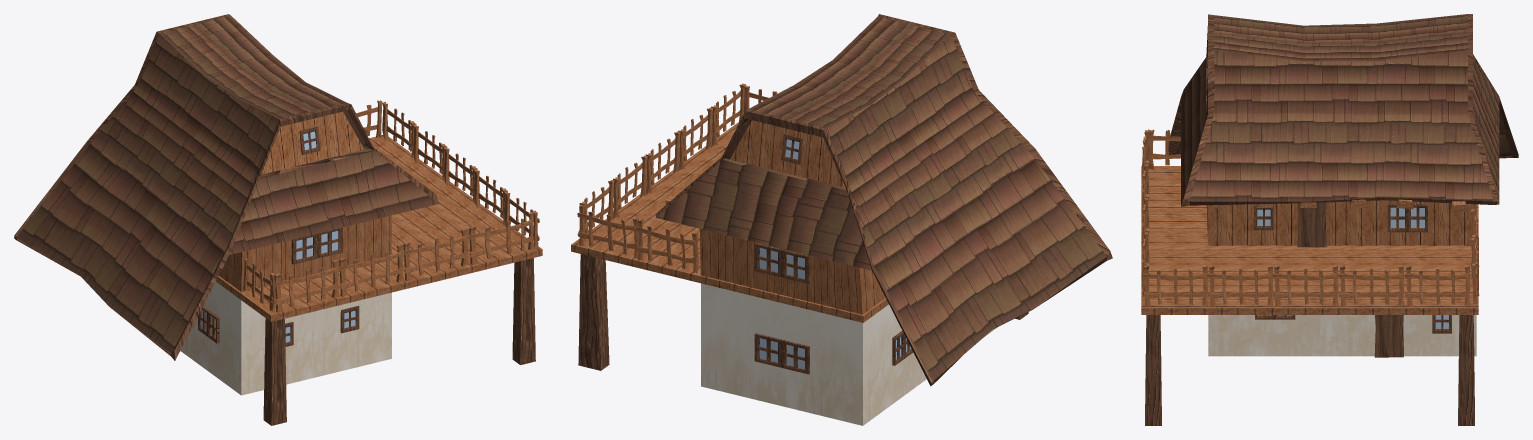
Rendered from dom2.fbx.
3 renders of one model, left to right at view 1: azimuth 30°, elevation 25°; view 2: azimuth 150°, elevation 25°; view 3: azimuth 270°, elevation 25°, orthographic. The views are drawn at different scales.
Parts seen in each view (by area): view 1: dom_velky; view 2: dom_velky; view 3: dom_velky.
Part boxes in pixels (x1,y1,x2,y2): dom_velky: [14, 14, 542, 425]; dom_velky: [571, 14, 1112, 425]; dom_velky: [1141, 14, 1518, 425].
Size of the model in its own units: 1462 by 1070 by 1248.
Materials: 35 (22 with a texture image).
